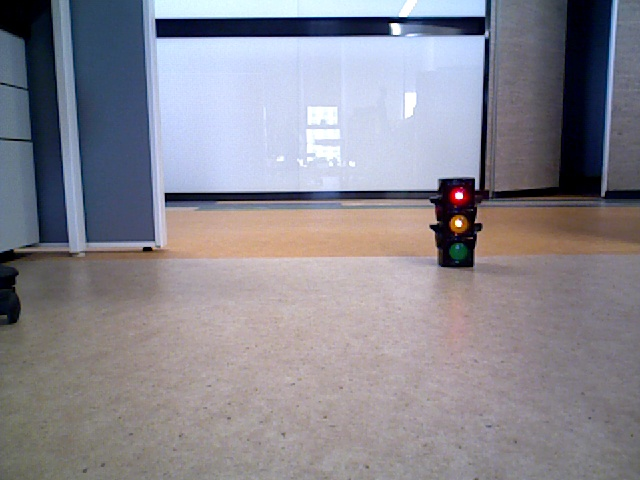red: (438, 178, 474, 262)
